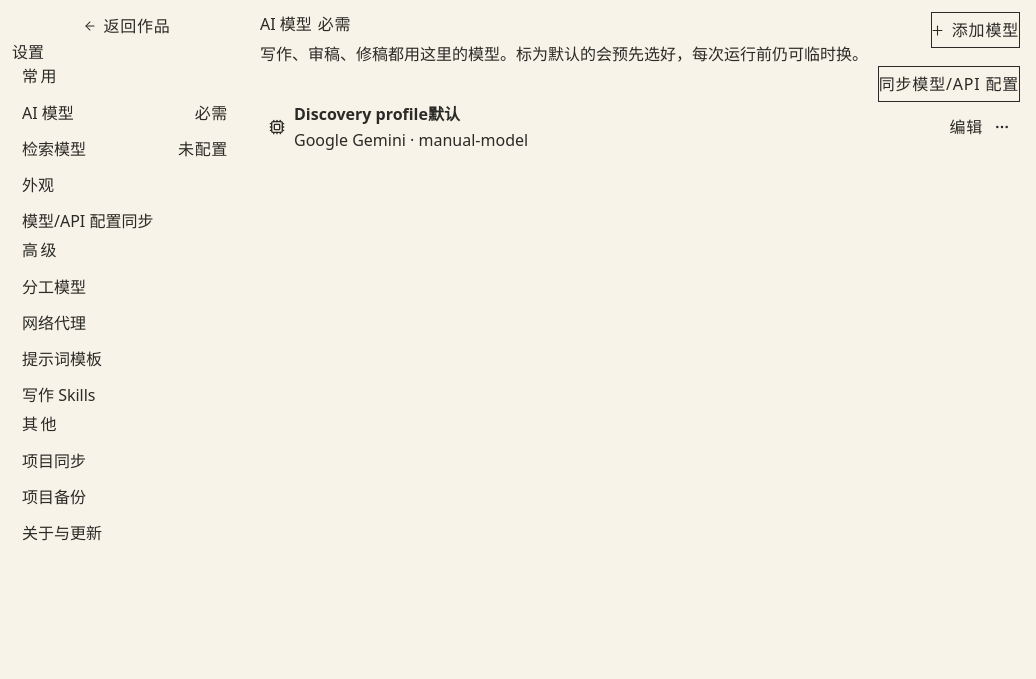
model discovery settings flow › shows selected native Gemini declarations and leaves missing feature declarations unknown
Click the button with aria-label "编辑「".
click(966, 127)  # box x1=948 y1=113 x2=984 y2=141
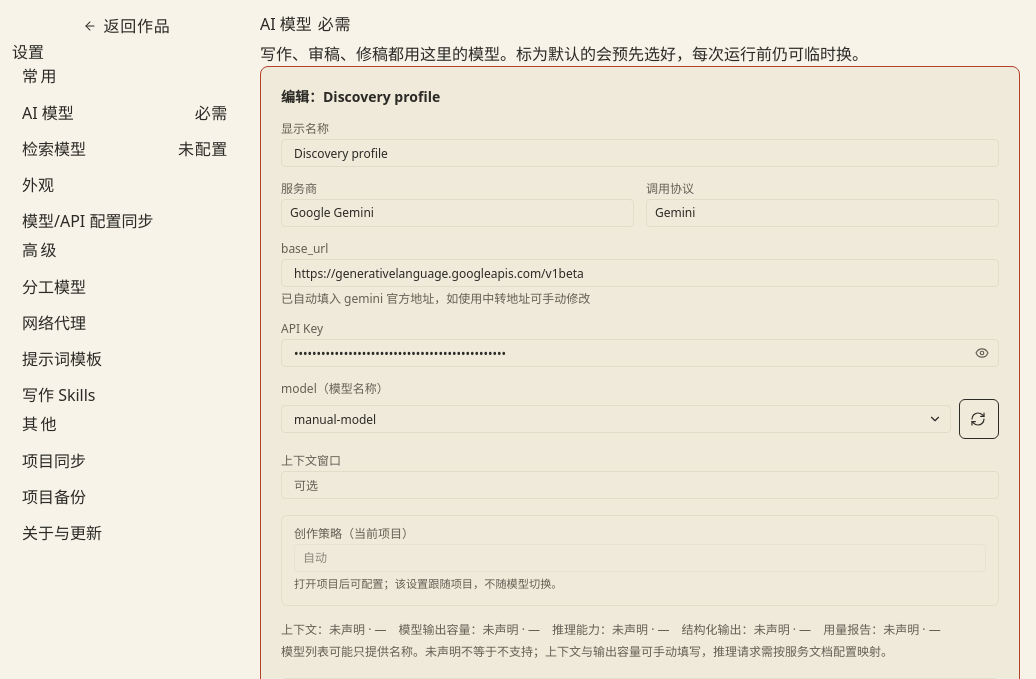
Click the button named "获取模型列表".
click(979, 419)  # box x1=959 y1=399 x2=999 y2=439
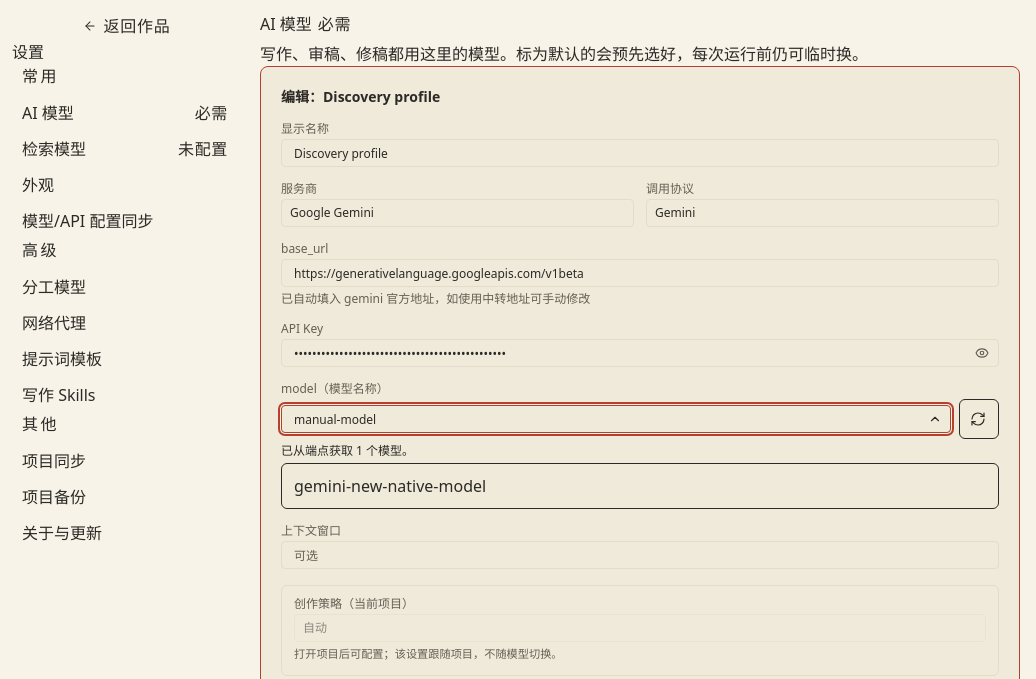
Click the option "gemini-new-native-model".
click(390, 486)  # box x1=294 y1=475 x2=486 y2=497
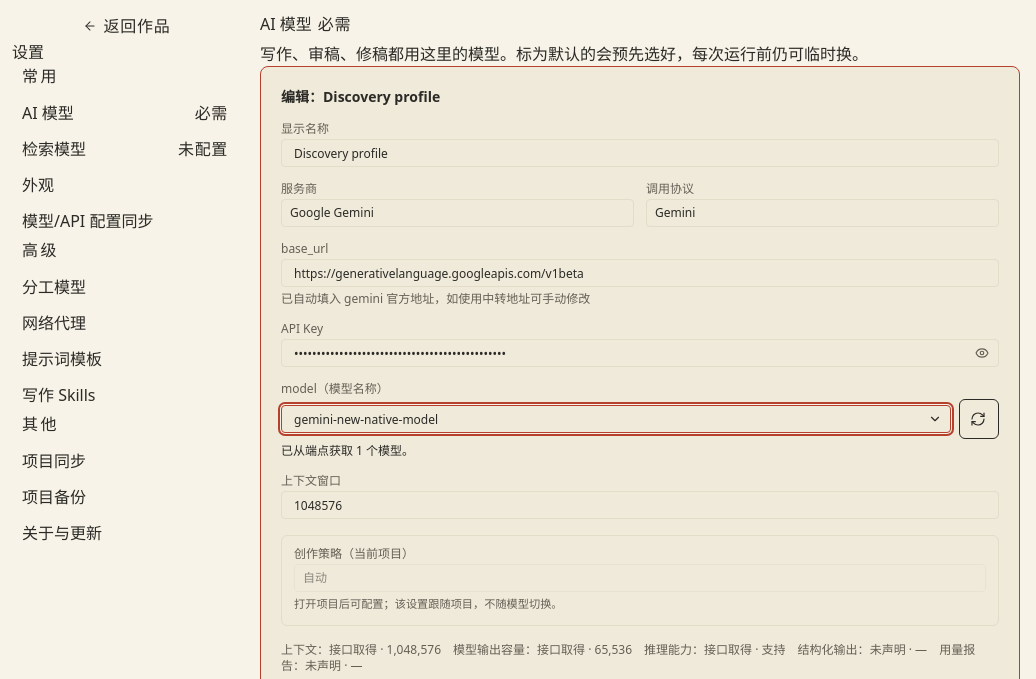
Now the text "上下文：接口取得 · 1,048,576" is shown, box x1=281 y1=641 x2=441 y2=658
Now the text "模型输出容量：接口取得 · 65,536" is shown, box x1=453 y1=641 x2=632 y2=658
Now the text "推理能力：接口取得 · 支持" is shown, box x1=644 y1=641 x2=786 y2=658
